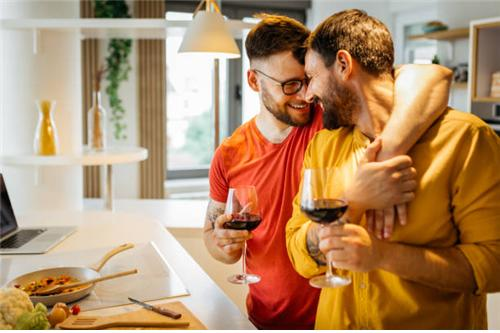alcohol: (298, 165, 353, 291), (222, 187, 264, 285)
knife: (125, 295, 188, 320)
